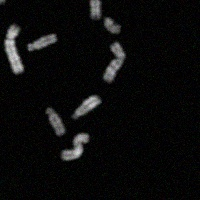chromosome: (4, 23, 24, 74), (102, 41, 126, 82), (60, 133, 89, 160), (72, 94, 101, 119), (45, 106, 64, 135), (29, 34, 57, 52), (85, 0, 101, 19), (103, 18, 120, 33), (0, 0, 4, 3)
